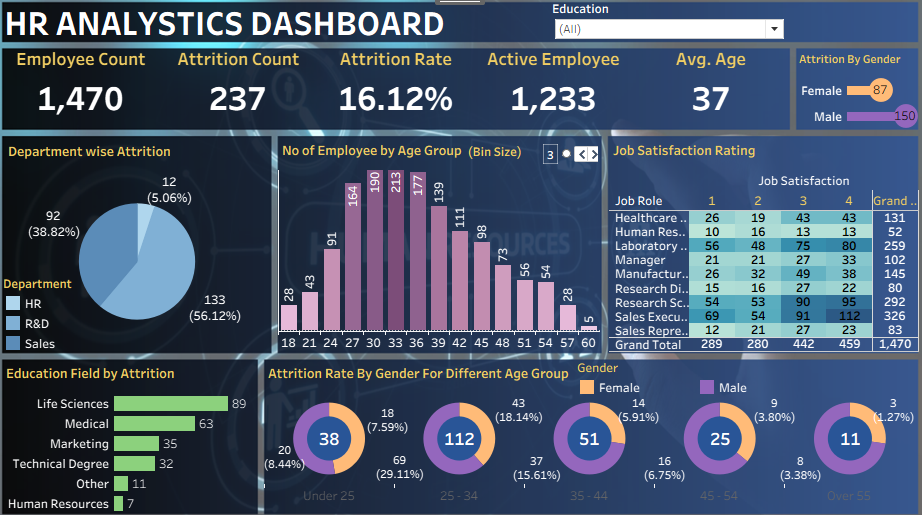

The dashboard page shown, as its layout file describes it:
{"tool":"tableau","page":{"name":"HR ANALYSTICS DASHBOARD","canvas":[1000,1000],"units":"permille","ordinal":0},"visuals":[{"type":"image","param":"C:/Users/saifi/Downloads/HR background.pptx.png","box":[6.9,14.7,986.1,970.6]},{"type":"filter","title":"Attrition Rate By Gender For Different Age Group","param":"[federated.03kpozg1uwmb4a10li02t0pguwow].[none:Education:nk]","box":[579.2,25.7,203.5,73.5]},{"type":"text","box":[103,38.6,453.7,55.1]},{"type":"worksheet","title":"Attrition By Gender","mark":"Automatic","rows":["Gender"],"cols":["Calculation_1036953829793304576","Calculation_1036953829793304576"],"box":[789.6,112.1,109.1,150.7]},{"type":"worksheet","title":"KPI","mark":"Automatic","box":[103,114,682.2,145.2]},{"type":"worksheet","title":"No of Employee by Age Group ","mark":"Automatic","rows":["Employee Count"],"cols":["Age (bin)"],"box":[342,277.6,278.8,395.2]},{"type":"worksheet","title":"Job Satisfaction Rating","mark":"Square","rows":["Job Role"],"cols":["Job Satisfaction"],"box":[628.6,277.6,268.4,395.2]},{"type":"worksheet","title":"Department wise Attrition","mark":"Pie","box":[104.8,279.4,230.3,393.4]},{"type":"parameter","param":"[Parameters].[Parameter 1]","box":[506.5,284.9,115.2,47.8]},{"type":"legend","title":"Department wise Attrition","param":"[federated.03kpozg1uwmb4a10li02t0pguwow].[none:Department:nk]","box":[103.9,531.2,88.3,145.2]},{"type":"legend","title":"Attrition Rate By Gender For Different Age Group","param":"[federated.03kpozg1uwmb4a10li02t0pguwow].[none:Gender:nk]","box":[600.9,685.7,232.9,69.9]},{"type":"worksheet","title":"Education Field by Attrition","mark":"Automatic","rows":["Education Field"],"cols":["Calculation_1036953829793304576"],"box":[103,687.5,221.7,281.2]},{"type":"worksheet","title":"Attrition Rate By Gender For Different Age Group","mark":"Pie","rows":["Calculation_1036953829848281095","Calculation_1036953829848510473"],"cols":["CF_age band"],"box":[329.9,687.5,563.6,283.1]}]}

Visuals, with their boxes on the dashboard's canvas, which has no fixed pixel size, in thousandths of its width and height (x1, y1, x2, y2). These are canvas units, not pixel positions in the 922x515 screenshot, which may show the page scaled, cropped or inside an application window:
image: locate(7, 15, 993, 985)
"Attrition Rate By Gender For Different Age Group" filter: locate(579, 26, 783, 99)
text: locate(103, 39, 557, 94)
"Attrition By Gender" worksheet: locate(790, 112, 899, 263)
"KPI" worksheet: locate(103, 114, 785, 259)
"No of Employee by Age Group " worksheet: locate(342, 278, 621, 673)
"Job Satisfaction Rating" worksheet (Square marks): locate(629, 278, 897, 673)
"Department wise Attrition" worksheet (Pie marks): locate(105, 279, 335, 673)
parameter: locate(506, 285, 622, 333)
"Department wise Attrition" legend: locate(104, 531, 192, 676)
"Attrition Rate By Gender For Different Age Group" legend: locate(601, 686, 834, 756)
"Education Field by Attrition" worksheet: locate(103, 688, 325, 969)
"Attrition Rate By Gender For Different Age Group" worksheet (Pie marks): locate(330, 688, 894, 971)
